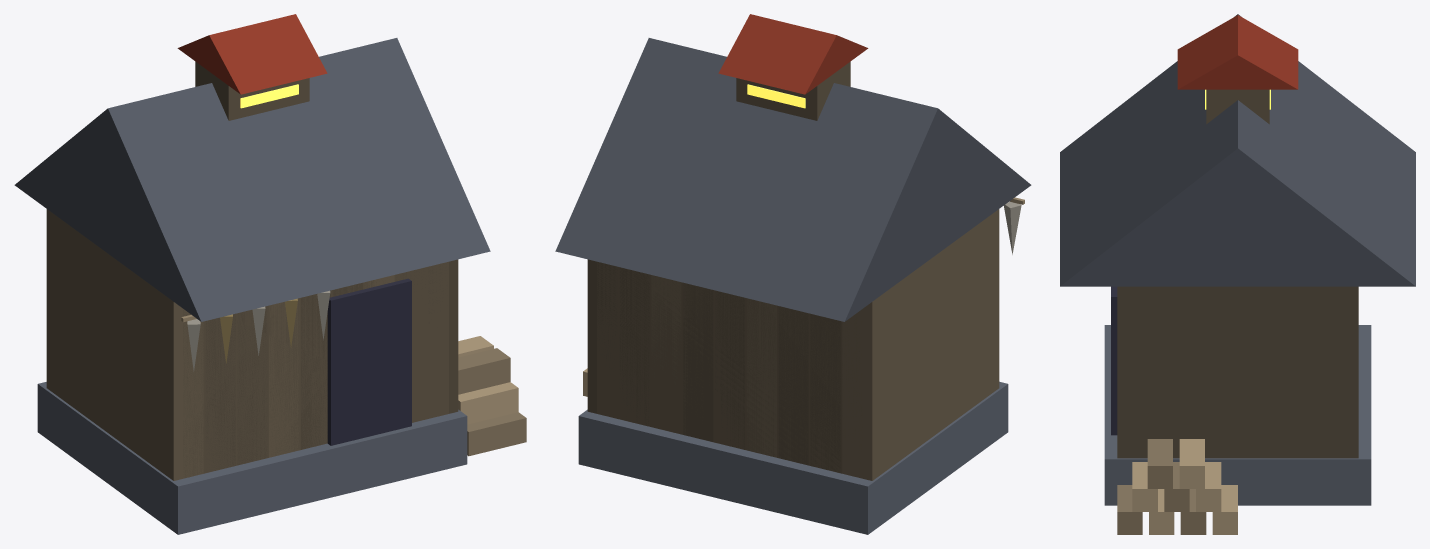
The model's file is smokehouse.glb.
3 views of the same model, side by side, from view 1: azimuth 30°, elevation 25°; view 2: azimuth 150°, elevation 25°; view 3: azimuth 270°, elevation 25° (orthographic). The views are drawn at different scales.
Parts seen in each view (by area): view 1: slate_d25, driftwood_d45, driftwood_d50, slate_d10, ink_l10, driftwood_d55, coal_d20, driftwood_d30, driftwood_d10, bone_d30, kindle_d35, ember_glow; view 2: slate_d25, driftwood_d45, driftwood_d50, slate_d10, driftwood_d55, coal_d20, ember_glow; view 3: slate_d25, driftwood_d55, slate_d10, coal_d20, driftwood_d10, driftwood_d30, driftwood_d50, ink_l10.
Boxes of the visible parts, x1,y1,x2,y2 form: slate_d25: [14, 38, 490, 321]; driftwood_d45: [46, 209, 394, 480]; driftwood_d50: [183, 61, 448, 477]; slate_d10: [37, 382, 467, 534]; ink_l10: [327, 278, 411, 445]; driftwood_d55: [205, 259, 458, 470]; coal_d20: [177, 14, 327, 94]; driftwood_d30: [458, 348, 526, 456]; driftwood_d10: [458, 336, 518, 424]; bone_d30: [187, 290, 330, 371]; kindle_d35: [220, 298, 297, 363]; ember_glow: [240, 84, 298, 108]; slate_d25: [555, 38, 1031, 321]; driftwood_d45: [651, 209, 999, 480]; driftwood_d50: [597, 61, 862, 473]; slate_d10: [578, 381, 1008, 534]; driftwood_d55: [587, 259, 840, 473]; coal_d20: [718, 14, 868, 94]; ember_glow: [747, 84, 805, 108]; slate_d25: [1060, 14, 1415, 286]; driftwood_d55: [1117, 286, 1358, 458]; slate_d10: [1104, 325, 1371, 505]; coal_d20: [1177, 15, 1298, 89]; driftwood_d10: [1132, 439, 1237, 534]; driftwood_d30: [1117, 439, 1206, 534]; driftwood_d50: [1206, 89, 1269, 124]; ink_l10: [1111, 286, 1117, 435].
Size of the model in its own units: 3.12 by 3.5 by 2.8.
